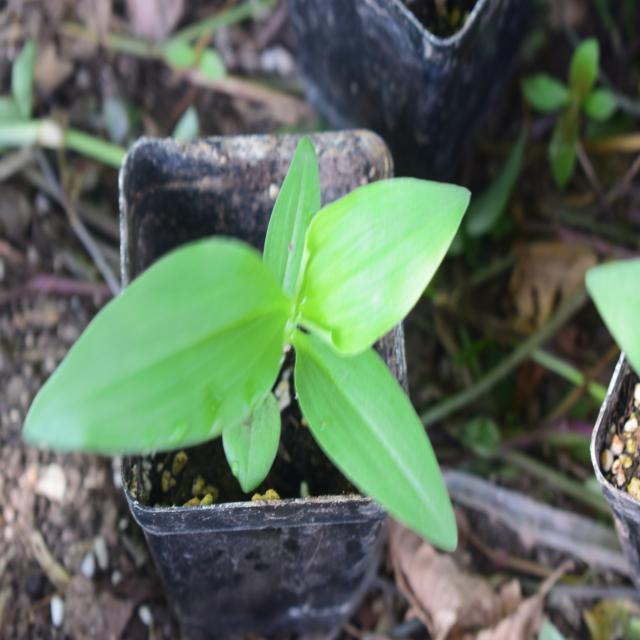Common Dayflower: (26, 160, 478, 548)
